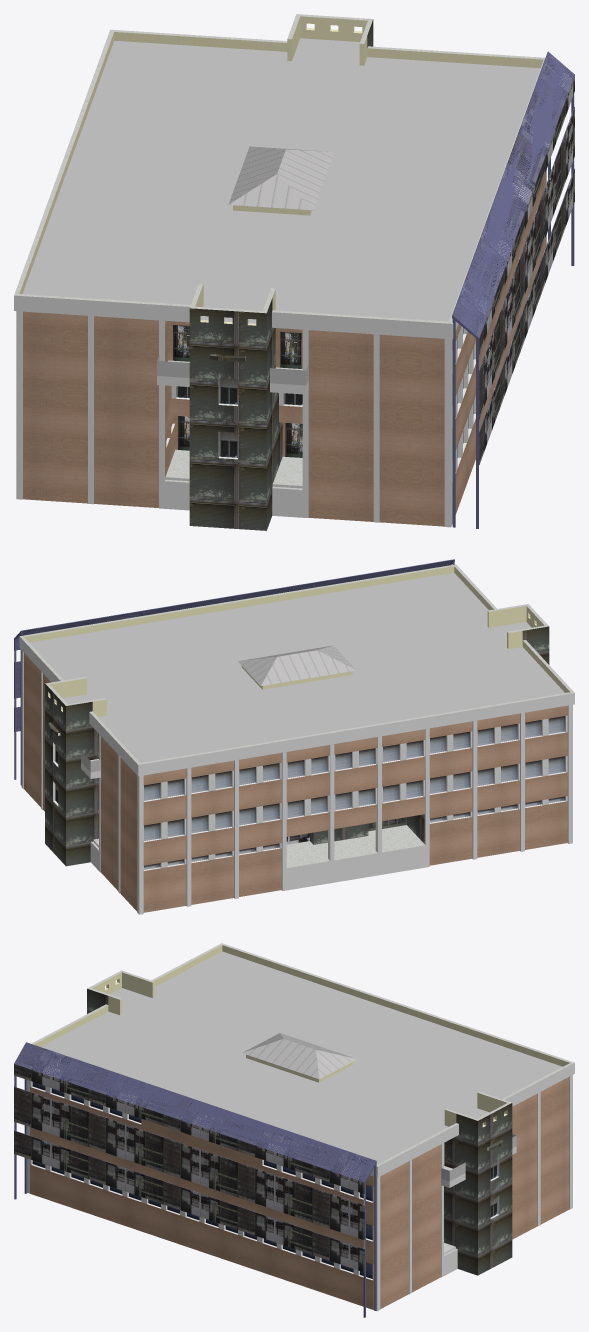
The picture shows the model from 3 angles, top to bottom: view 1: azimuth 30°, elevation 25°; view 2: azimuth 150°, elevation 25°; view 3: azimuth 270°, elevation 25°; orthographic projection. The views are drawn at different scales.
Parts seen in each view (by area): view 1: SketchUp (×28); view 2: SketchUp (×52); view 3: SketchUp (×23).
Part boxes in pixels (x1,y1,x2,y2): SketchUp (×28): [14, 16, 574, 530]; SketchUp (×52): [14, 559, 574, 914]; SketchUp (×23): [14, 943, 574, 1317].
Size of the model in its own units: 2162 by 2234 by 686.
